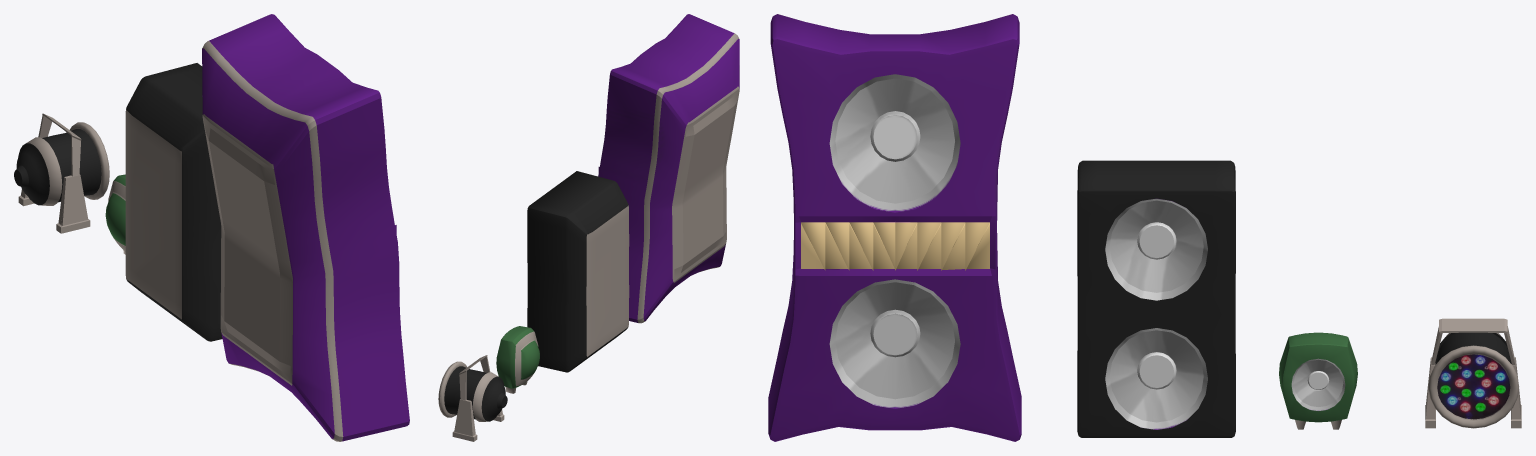
File: Soundtrack.fbx
3 views of the same model, side by side, from view 1: azimuth 30°, elevation 25°; view 2: azimuth 150°, elevation 25°; view 3: azimuth 270°, elevation 25° (orthographic). The views are drawn at different scales.
Parts seen in each view (by area): view 1: Monster_Soundbox, Medium_Soundbox, Canhao_luz, Cube.001, Mini_Soundbox; view 2: Monster_Soundbox, Medium_Soundbox, Canhao_luz, Mini_Soundbox, Cube.001; view 3: Monster_Soundbox, Medium_Soundbox, Canhao_luz, Mini_Soundbox, Cube.001.
Boxes of the visible parts, bbox=[...] form: Monster_Soundbox: bbox=[202, 14, 409, 441]; Medium_Soundbox: bbox=[125, 63, 222, 341]; Canhao_luz: bbox=[14, 122, 109, 205]; Cube.001: bbox=[18, 113, 90, 233]; Mini_Soundbox: bbox=[105, 174, 125, 254]; Monster_Soundbox: bbox=[598, 14, 739, 323]; Medium_Soundbox: bbox=[527, 171, 629, 372]; Canhao_luz: bbox=[438, 361, 507, 421]; Mini_Soundbox: bbox=[496, 326, 539, 393]; Cube.001: bbox=[452, 355, 504, 441]; Monster_Soundbox: bbox=[768, 14, 1021, 441]; Medium_Soundbox: bbox=[1077, 160, 1235, 437]; Canhao_luz: bbox=[1428, 332, 1519, 428]; Mini_Soundbox: bbox=[1279, 332, 1357, 429]; Cube.001: bbox=[1425, 318, 1521, 428].
Size of the model in its own units: 964 by 2602 by 4524.
